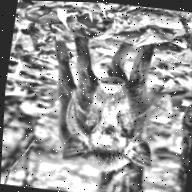boar: (23, 21, 175, 179)
